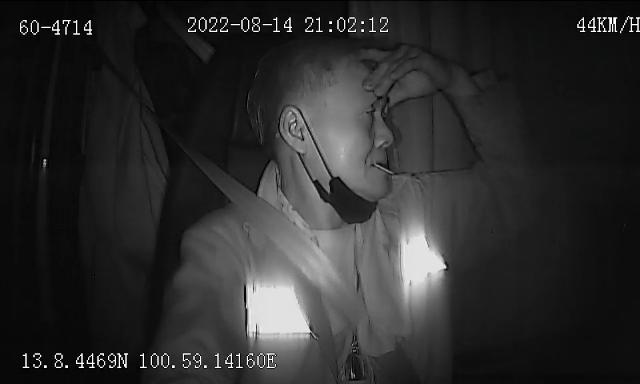Seatbelt: (188, 152, 358, 318)
